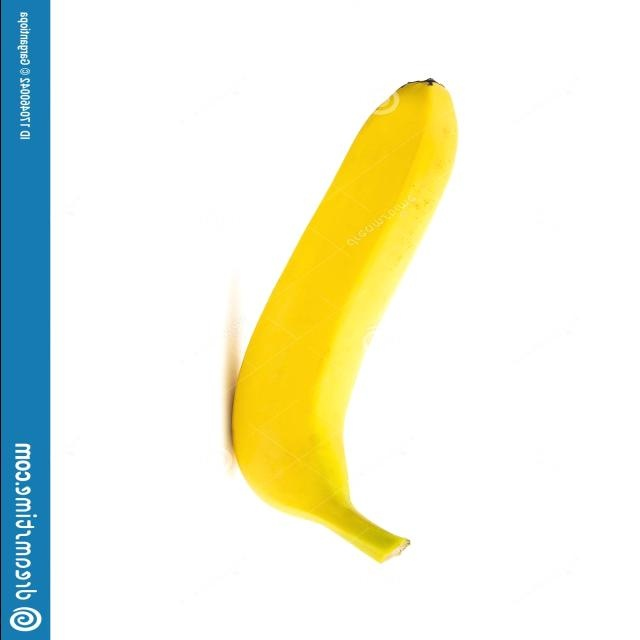agrume: (224, 79, 464, 566)
